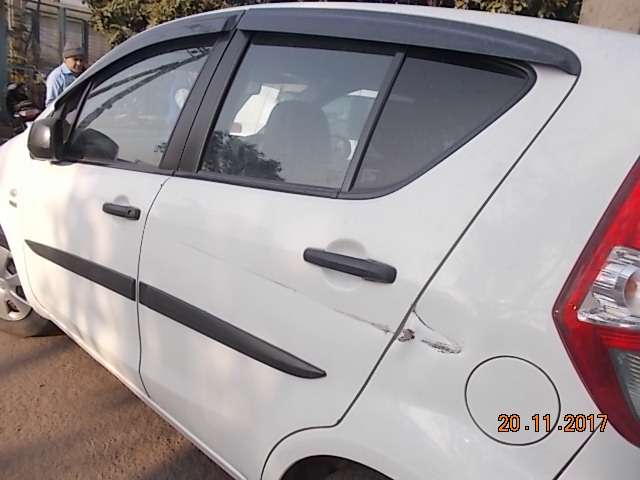Scratch_or_spot: (400, 326, 463, 361)
